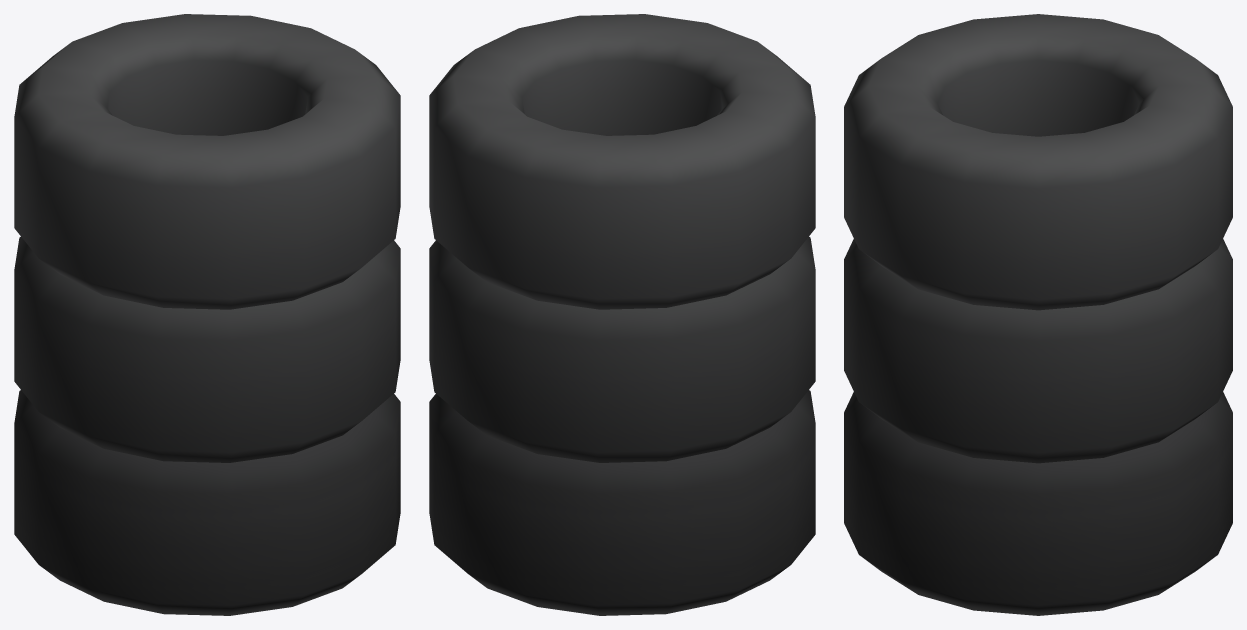
File: Barrier_Wheel_08.fbx
The picture shows the model from 3 angles, left to right: view 1: azimuth 30°, elevation 25°; view 2: azimuth 150°, elevation 25°; view 3: azimuth 270°, elevation 25°; orthographic projection.
Parts seen in each view (by area): view 1: Barrier_Wheel_08; view 2: Barrier_Wheel_08; view 3: Barrier_Wheel_08.
Part boxes in pixels (<box>): Barrier_Wheel_08: <box>14,14,400,615</box>; Barrier_Wheel_08: <box>429,14,815,615</box>; Barrier_Wheel_08: <box>844,14,1232,615</box>.
Bounding box in the file's own units: 100 × 100 × 130.
